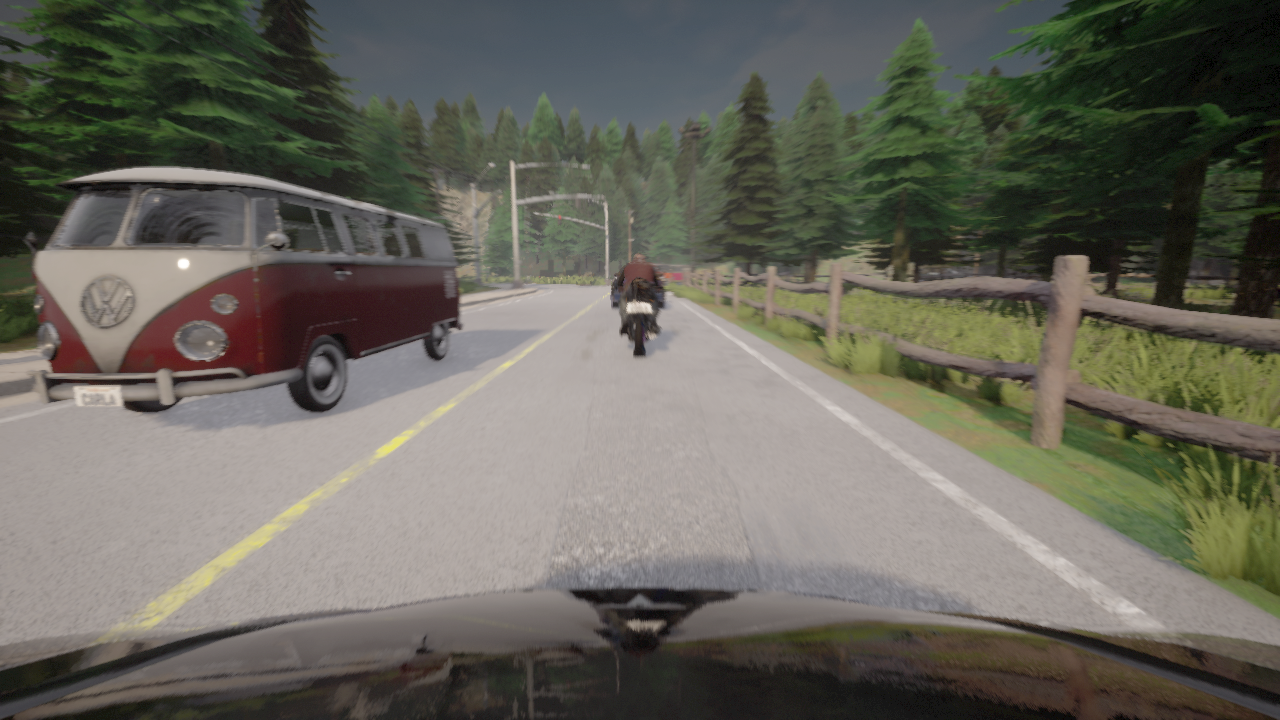cyclist: (0, 588, 1279, 719), (24, 167, 462, 413), (613, 273, 663, 358), (611, 268, 664, 308), (919, 267, 974, 282), (649, 264, 672, 285), (669, 265, 690, 285)
